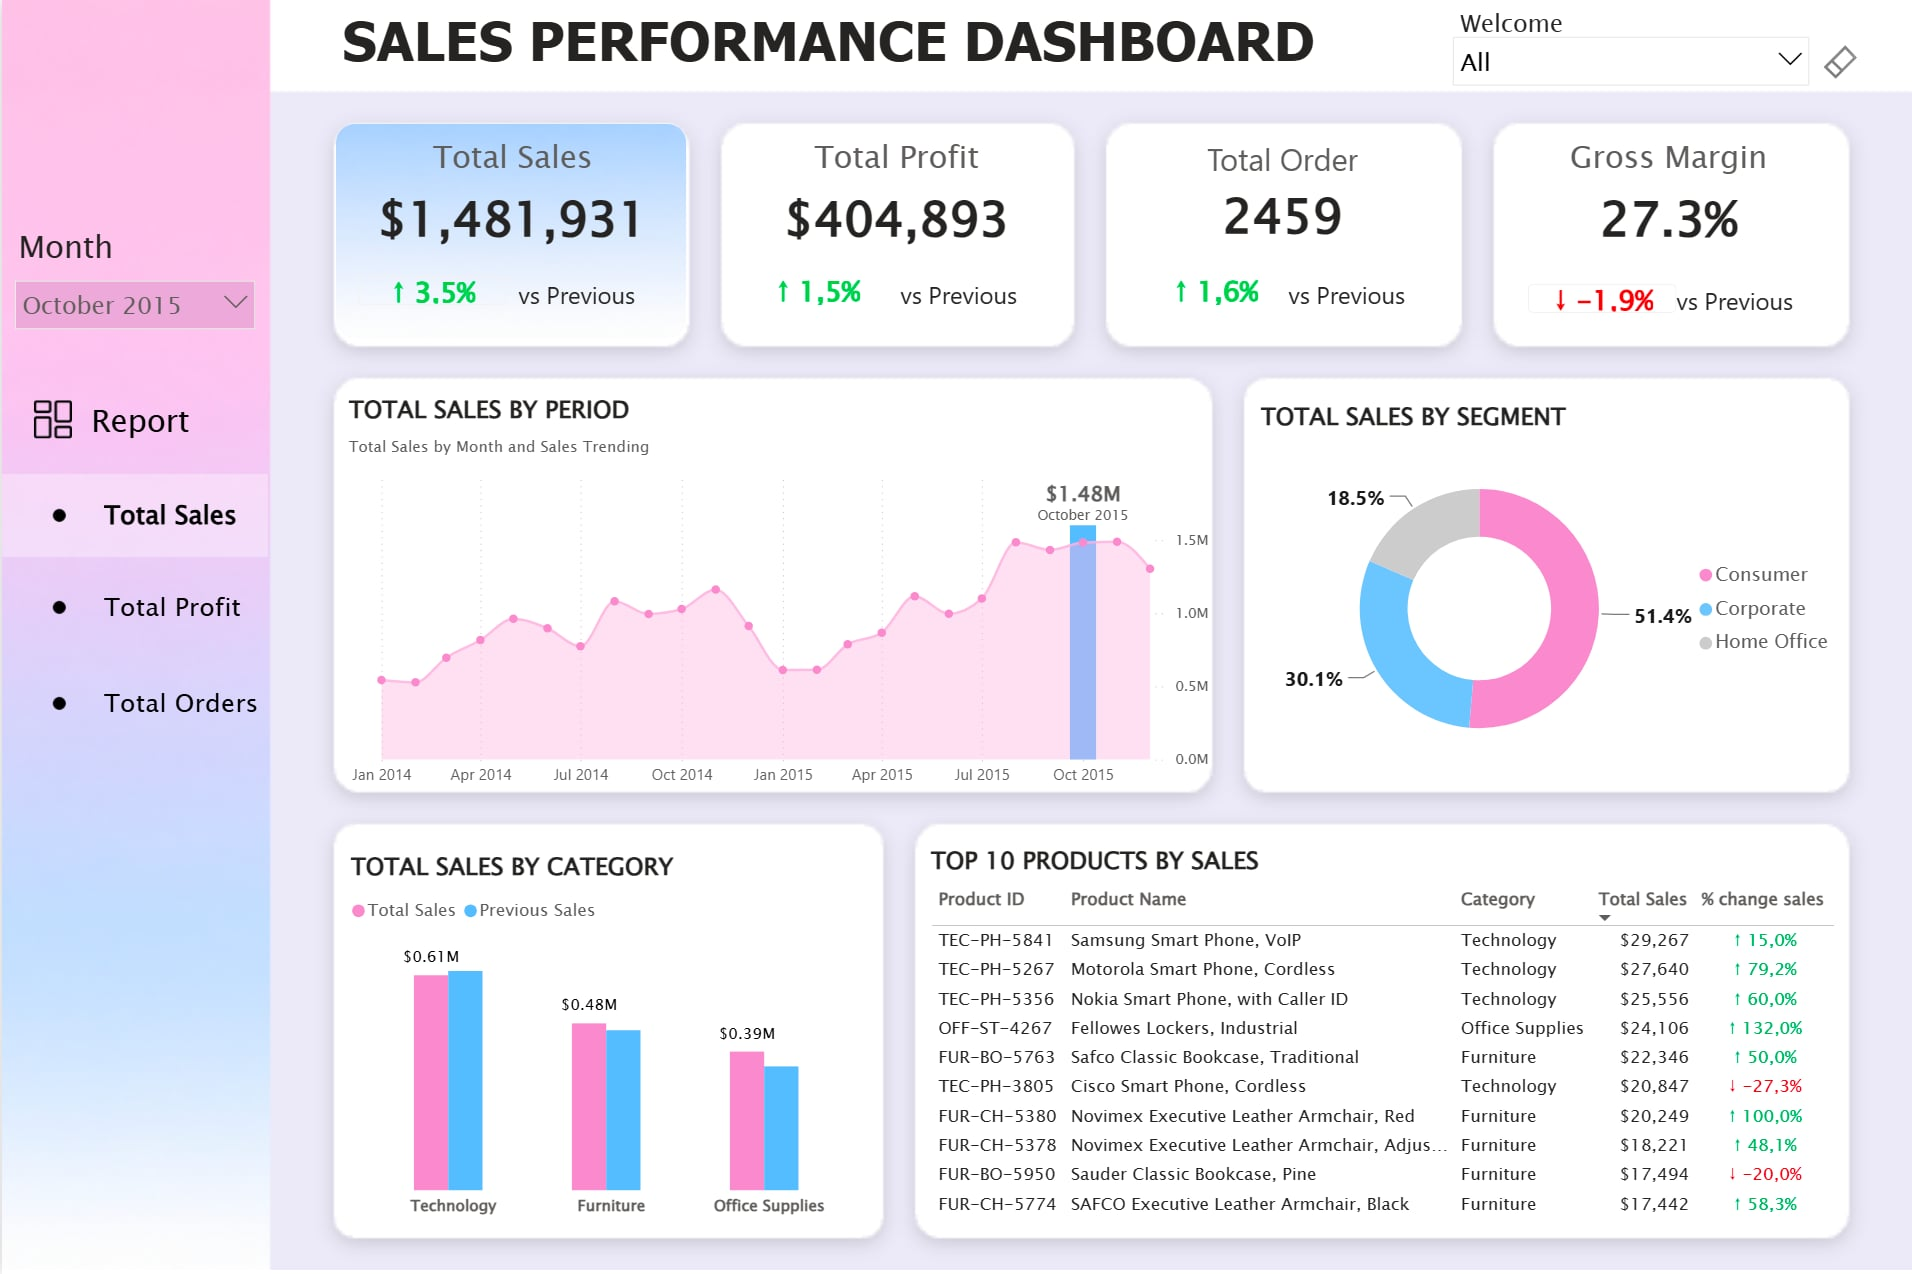

Layout of this report page (visuals, bound fields, positions):
{"tool":"powerbi","page":{"name":"Report","canvas":[1500,1000],"ordinal":0},"visuals":[{"type":"textbox","box":[262.6,0,846.7,63.6],"z":0,"group":"g7"},{"type":"cardVisual","fields":{"Data":["Measure.Total Sales"]},"box":[262.6,78.3,274.1,150.1],"z":0,"group":"g5"},{"type":"cardVisual","fields":{"Data":["Measure.Total Profit"]},"box":[565.8,78.3,274.1,150.1],"z":0,"group":"g2"},{"type":"cardVisual","fields":{"Data":["Measure.Total Order"]},"box":[868.6,78.3,274.1,150.1],"z":0,"group":"g3"},{"type":"cardVisual","fields":{"Data":["Measure.Gross Margin"]},"box":[1171.3,78.3,274.1,150.1],"z":0,"group":"g4"},{"type":"slicer","fields":{"Values":["Calendar.Order Month"]},"box":[0,171.3,208.8,96.2],"z":0},{"type":"lineClusteredColumnComboChart","title":"TOTAL SALES BY PERIOD","fields":{"Category":["Orders.Order Month"],"Y":["Measure.Total Sales"],"Y2":["Measure.All Sales"]},"box":[261.9,303.2,690.7,323.1],"z":0,"group":"g1"},{"type":"slicer","fields":{"Values":["Orders.Person"]},"box":[1128.8,19.6,300.2,52.2],"z":1000,"group":"g7"},{"type":"cardVisual","fields":{"Data":["Measure.% change sales"]},"box":[261.6,198.7,151.7,57.1],"z":1000,"group":"g5"},{"type":"cardVisual","fields":{"Data":["Measure.% change order"]},"box":[878.6,198.7,151.7,57.1],"z":1000,"group":"g3"},{"type":"cardVisual","fields":{"Data":["Measure.% change profit"]},"box":[565.3,199.9,151.7,57.1],"z":1000,"group":"g2"},{"type":"cardVisual","fields":{"Data":["Measure.% change gross margin"]},"box":[1180.5,205,151.7,57.1],"z":1000,"group":"g4"},{"type":"donutChart","title":"TOTAL SALES BY SEGMENT","fields":{"Category":["Orders.Segment"],"Y":["Measure.Total Sales"]},"box":[977.1,303.2,470.1,310.9],"z":1000,"group":"g1"},{"type":"actionButton","title":"Button orders","box":[0,519.3,208.8,65.3],"z":1000,"group":"g6"},{"type":"textbox","box":[1140.3,0,93,40.8],"z":2000,"group":"g7"},{"type":"textbox","box":[399.7,213.7,137,40.8],"z":2000,"group":"g5"},{"type":"textbox","box":[1005.6,213.7,137,40.8],"z":2000,"group":"g3"},{"type":"textbox","box":[700.5,213.8,137,40.8],"z":2000,"group":"g2"},{"type":"textbox","box":[1309.5,218.1,137,40.8],"z":2000,"group":"g4"},{"type":"clusteredColumnChart","title":"TOTAL SALES BY CATEGORY","fields":{"Category":["Orders.Category","Orders.Sub-Category"],"Y":["Measure.Total Sales","Measure.Previous Sales"]},"box":[263.4,655.4,424.2,310.9],"z":2000,"group":"g1"},{"type":"actionButton","title":"Button profit","box":[0,445.2,208.8,65.3],"z":3000,"group":"g6"},{"type":"tableEx","title":"TOP 10 PRODUCTS BY SALES","fields":{"Values":["Orders.Product ID","Orders.Product Name","Orders.Category","Measure.Total Sales","Measure.% change sales"]},"box":[719.3,651,728,316.5],"z":3000,"group":"g1"},{"type":"image","title":"2light sales","box":[262.3,97.2,275.1,168.7],"z":3500,"group":"g1"},{"type":"group","id":"g1","title":"Chart Sales","box":[261.9,97.2,1185.5,870.4],"z":4000},{"type":"actionButton","title":"Sales Active","box":[0,372.2,208.8,65.3],"z":4000,"group":"g6"},{"type":"group","id":"g2","title":"card profit","box":[565.3,78.3,274.6,178.7],"z":5000},{"type":"group","id":"g3","title":"card order","box":[868.6,78.3,274.1,177.5],"z":6000},{"type":"actionButton","title":"Button report","box":[0,297.1,208.8,65.3],"z":6000,"group":"g6"},{"type":"group","id":"g4","title":"card margin","box":[1171.3,78.3,275.2,183.8],"z":7000},{"type":"group","id":"g5","title":"card sales","box":[261.6,78.3,275.1,177.5],"z":8000},{"type":"group","id":"g6","title":"navigation","box":[0,297.1,209,361.2],"z":9000},{"type":"group","id":"g7","title":"header","box":[262.6,0,1166.4,71.8],"z":10000},{"type":"actionButton","box":[1426.1,31.7,38.7,35.2],"z":11000}]}

Visuals, with their boxes in screenshot pixels (x1, y1, x2, y2), scaled from the page's 1500x1000 canvas onto the 1912x1274 screenshot:
textbox: bbox=[335, 0, 1414, 81]
cardVisual - Measure.Total Sales: bbox=[335, 100, 684, 291]
cardVisual - Measure.Total Profit: bbox=[721, 100, 1071, 291]
cardVisual - Measure.Total Order: bbox=[1107, 100, 1457, 291]
cardVisual - Measure.Gross Margin: bbox=[1493, 100, 1842, 291]
slicer - Calendar.Order Month: bbox=[0, 218, 266, 341]
"TOTAL SALES BY PERIOD" lineClusteredColumnComboChart: bbox=[334, 386, 1214, 798]
slicer - Orders.Person: bbox=[1439, 25, 1821, 91]
cardVisual - Measure.% change sales: bbox=[333, 253, 527, 326]
cardVisual - Measure.% change order: bbox=[1120, 253, 1313, 326]
cardVisual - Measure.% change profit: bbox=[721, 255, 914, 327]
cardVisual - Measure.% change gross margin: bbox=[1505, 261, 1698, 334]
"TOTAL SALES BY SEGMENT" donutChart: bbox=[1245, 386, 1845, 782]
"Button orders" actionButton: bbox=[0, 662, 266, 745]
textbox: bbox=[1454, 0, 1572, 52]
textbox: bbox=[509, 272, 684, 324]
textbox: bbox=[1282, 272, 1456, 324]
textbox: bbox=[893, 272, 1068, 324]
textbox: bbox=[1669, 278, 1844, 330]
"TOTAL SALES BY CATEGORY" clusteredColumnChart: bbox=[336, 835, 876, 1231]
"Button profit" actionButton: bbox=[0, 567, 266, 650]
"TOP 10 PRODUCTS BY SALES" tableEx: bbox=[917, 829, 1845, 1233]
"2light sales" image: bbox=[334, 124, 685, 339]
"Chart Sales" group: bbox=[334, 124, 1845, 1233]
"Sales Active" actionButton: bbox=[0, 474, 266, 557]
"card profit" group: bbox=[721, 100, 1071, 327]
"card order" group: bbox=[1107, 100, 1457, 326]
"Button report" actionButton: bbox=[0, 379, 266, 462]
"card margin" group: bbox=[1493, 100, 1844, 334]
"card sales" group: bbox=[333, 100, 684, 326]
"navigation" group: bbox=[0, 379, 266, 839]
"header" group: bbox=[335, 0, 1821, 91]
actionButton: bbox=[1818, 40, 1867, 85]
